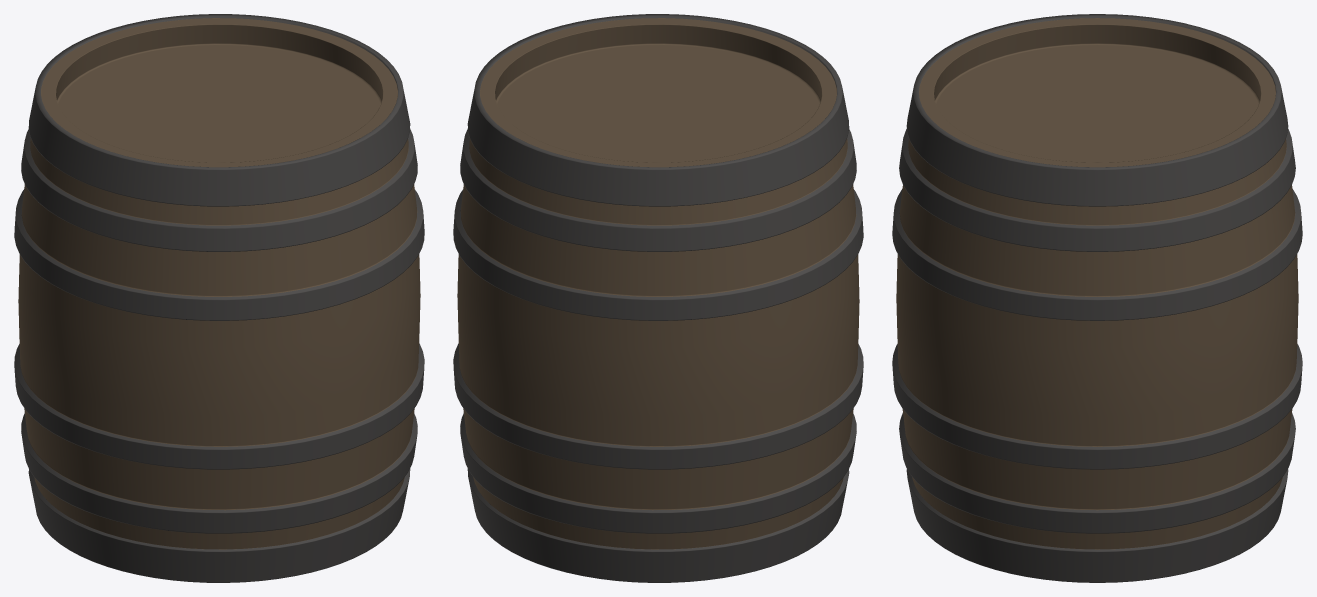
Rendered from Barrel.fbx.
3 views of the same model, side by side, from view 1: azimuth 30°, elevation 25°; view 2: azimuth 150°, elevation 25°; view 3: azimuth 270°, elevation 25° (orthographic).
Visible parts, largest first — view 1: Barrel; view 2: Barrel; view 3: Barrel.
Boxes of the visible parts, left/top/right/bottom form: Barrel: left=14, top=14, right=424, bottom=582; Barrel: left=453, top=14, right=863, bottom=582; Barrel: left=892, top=14, right=1302, bottom=582.
Size of the model in its own units: 90 by 100 by 90.
